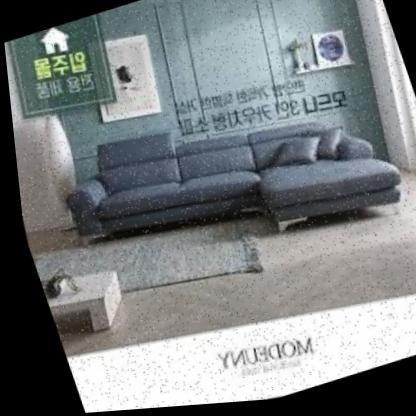Sofa: (7, 36, 416, 342)
